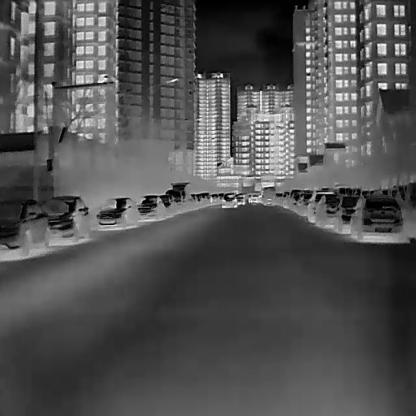car: (0, 197, 47, 255), (347, 194, 406, 239), (40, 195, 92, 242), (94, 195, 137, 227), (305, 190, 333, 226), (331, 195, 355, 234), (313, 194, 338, 228), (168, 181, 192, 212), (138, 194, 164, 221), (220, 191, 240, 210), (161, 194, 177, 216)
